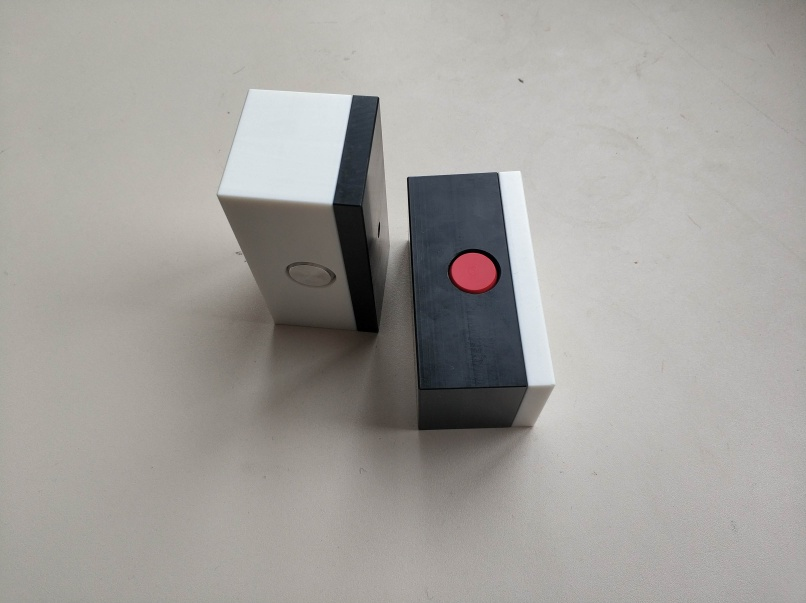black+white+silver: (213, 86, 392, 343)
white+black+red: (405, 168, 558, 431)
